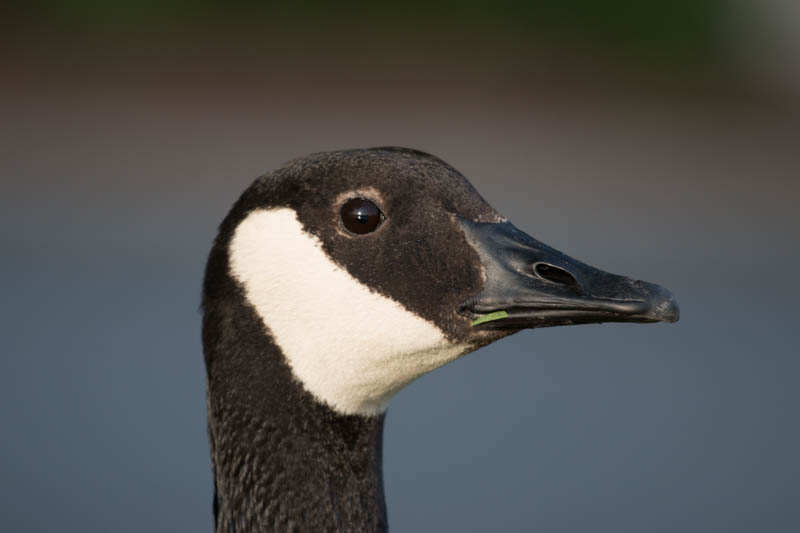goose-head: (202, 147, 681, 419)
